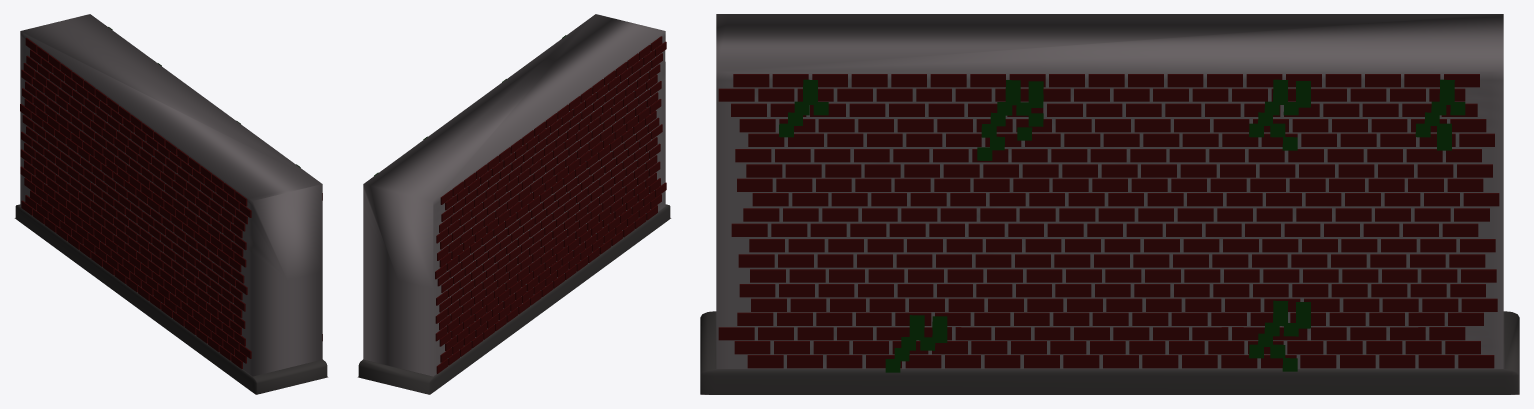
The model's file is DUVAR.fbx.
3 renders of one model, left to right at view 1: azimuth 30°, elevation 25°; view 2: azimuth 150°, elevation 25°; view 3: azimuth 270°, elevation 25°, orthographic. The views are drawn at different scales.
Parts seen in each view (by area): view 1: Cube, Cube.001, Cube.034, Cube.038, Cube.032, Cube.041, Cube.028, Cube.026, Cube.029, Cube.024, Cube.030, Cube.037 (+10 smaller); view 2: Cube, Cube.001, Cube.028, Cube.032, Cube.034, Cube.041, Cube.026, Cube.027, Cube.038, Cube.024, Cube.029, Cube.037 (+10 smaller); view 3: Cube, Cube.001, Cube.012, Cube.014, Cube.015, Cube.011, Cube.007, Cube.009, Cube.013, Cube.008, Cube.010, Cube.016 (+16 smaller).
Boxes of the visible parts, x1,y1,x2,y2 form: Cube: (14, 14, 328, 394); Cube.001: (15, 204, 327, 394); Cube.034: (24, 98, 246, 267); Cube.038: (23, 63, 245, 231); Cube.032: (22, 115, 244, 283); Cube.041: (25, 37, 247, 206); Cube.028: (20, 149, 242, 317); Cube.026: (20, 166, 241, 334); Cube.029: (24, 143, 245, 311); Cube.024: (30, 190, 251, 358); Cube.030: (21, 131, 242, 300); Cube.037: (21, 69, 242, 238); Cube: (357, 14, 671, 394); Cube.001: (358, 204, 670, 394); Cube.028: (435, 155, 657, 323); Cube.032: (437, 117, 659, 286); Cube.034: (439, 99, 661, 267); Cube.041: (440, 36, 662, 204); Cube.026: (435, 172, 656, 341); Cube.027: (439, 161, 660, 330); Cube.038: (439, 64, 660, 232); Cube.024: (445, 182, 666, 350); Cube.029: (439, 143, 660, 312); Cube.037: (436, 74, 657, 243); Cube: (700, 14, 1519, 394); Cube.001: (700, 311, 1519, 394); Cube.012: (743, 208, 1489, 221); Cube.014: (737, 178, 1483, 191); Cube.015: (746, 164, 1492, 177); Cube.011: (731, 223, 1478, 236); Cube.007: (739, 284, 1485, 297); Cube.009: (738, 254, 1485, 267); Cube.013: (752, 193, 1499, 206); Cube.008: (750, 269, 1496, 282); Cube.010: (749, 239, 1495, 252); Cube.016: (735, 149, 1481, 162).
Size of the model in its own units: 77.3 by 186 by 430.
